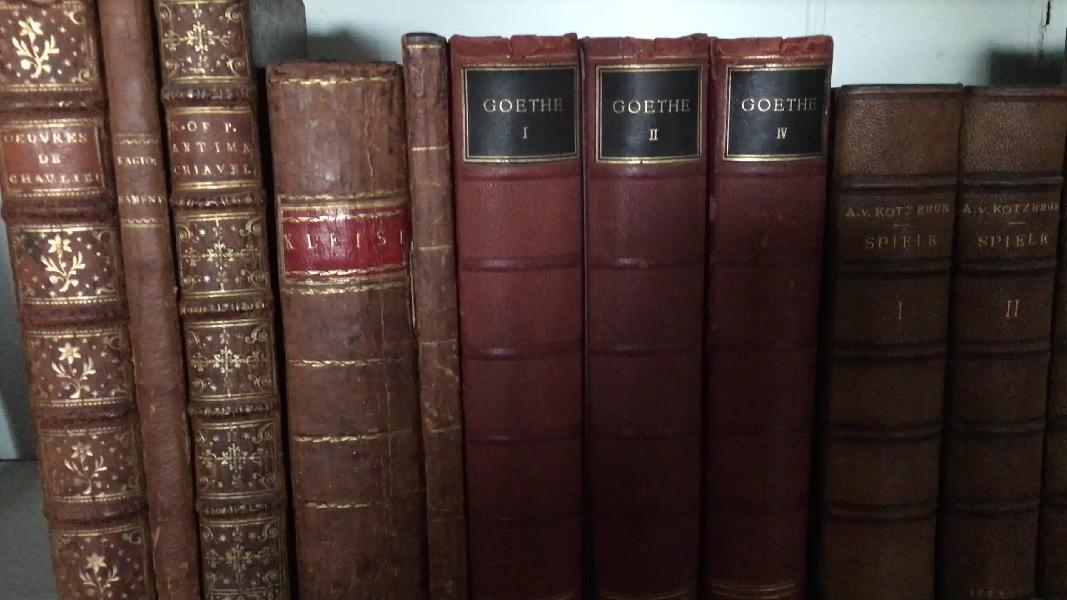Aa6-10: (398, 34, 495, 600)
Aa6-11_13: (450, 31, 838, 600)
Aa6-7: (90, 2, 208, 600)
Aa6-8: (159, 4, 296, 600)
Aa6-9: (244, 48, 424, 581)
